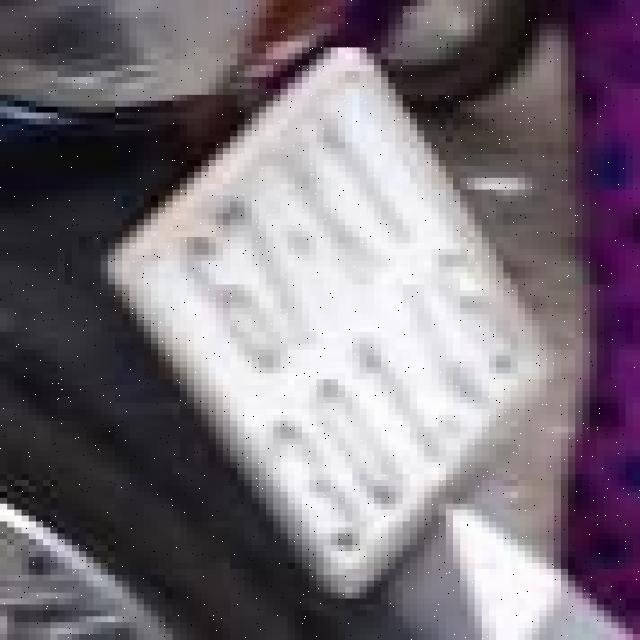0: (295, 372, 421, 514)
1: (302, 94, 427, 244), (347, 338, 459, 467)
3: (258, 405, 380, 558)
4: (389, 289, 515, 442)
5: (417, 251, 543, 381)
6: (166, 227, 299, 385)
7: (203, 196, 324, 333)
K: (260, 144, 399, 289)
